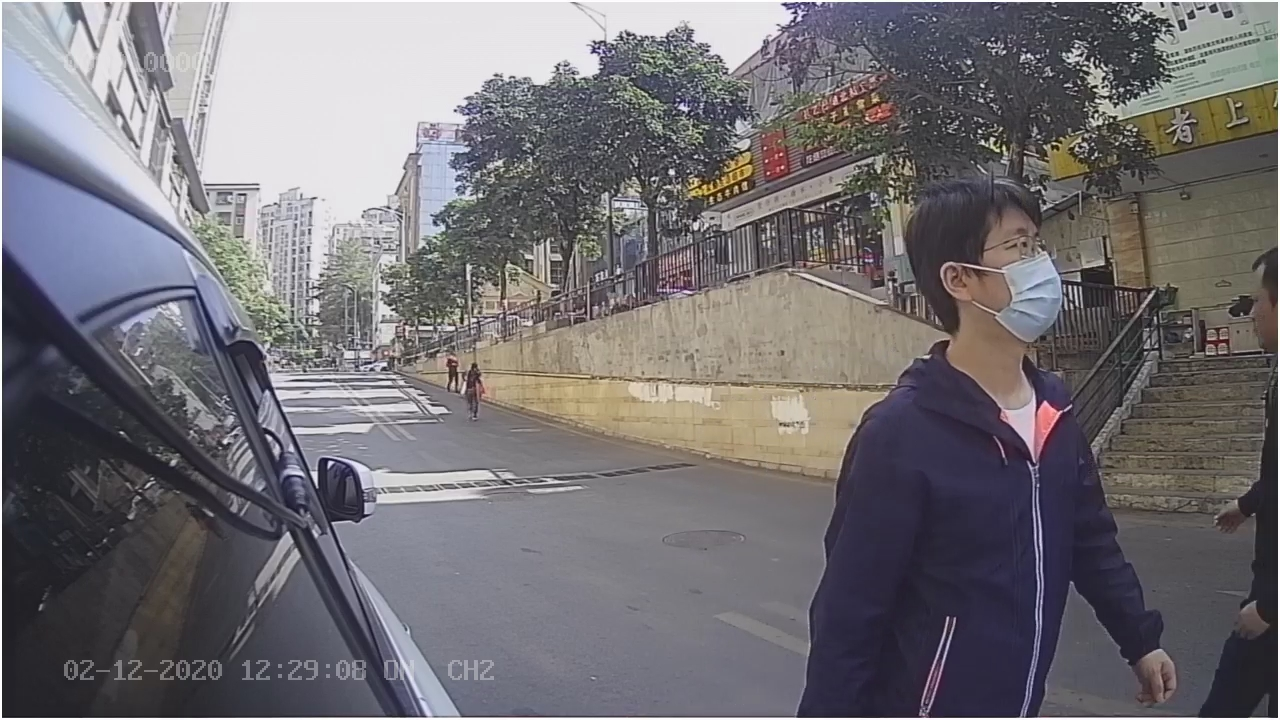person: (818, 172, 1125, 572)
